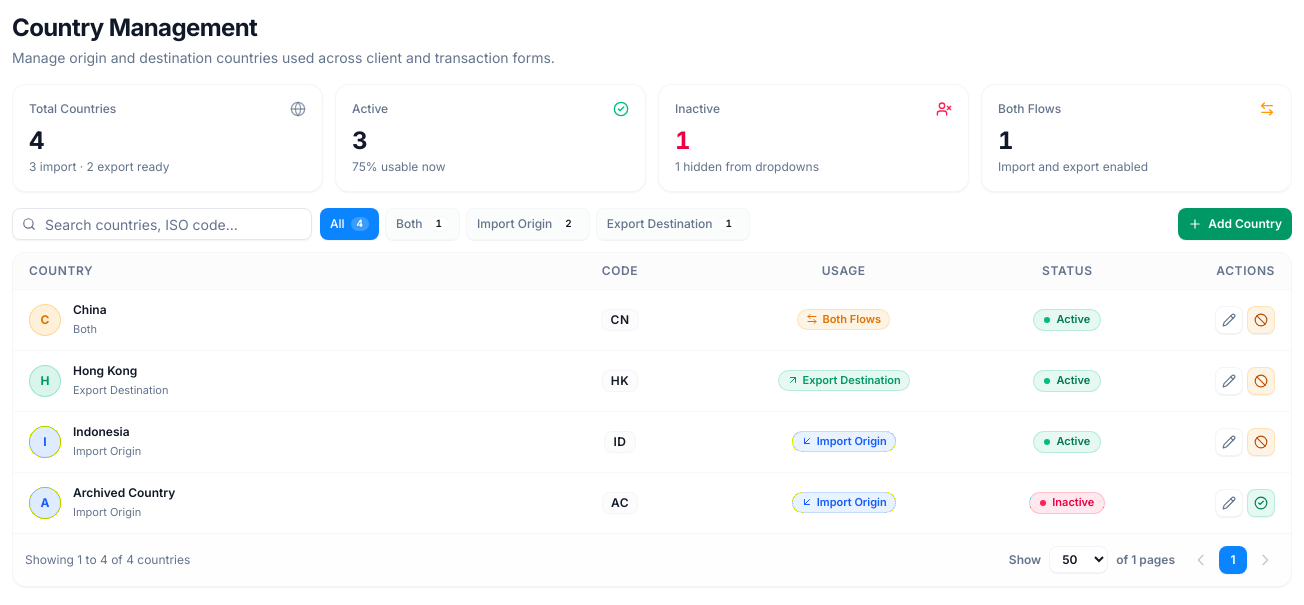
it: CountryManagement › filters countries by usage flow button
The width and height of the screenshot is (1304, 605).
Click the button "Export Destination 1". click: [673, 224]
box: 596,208 -> 750,240
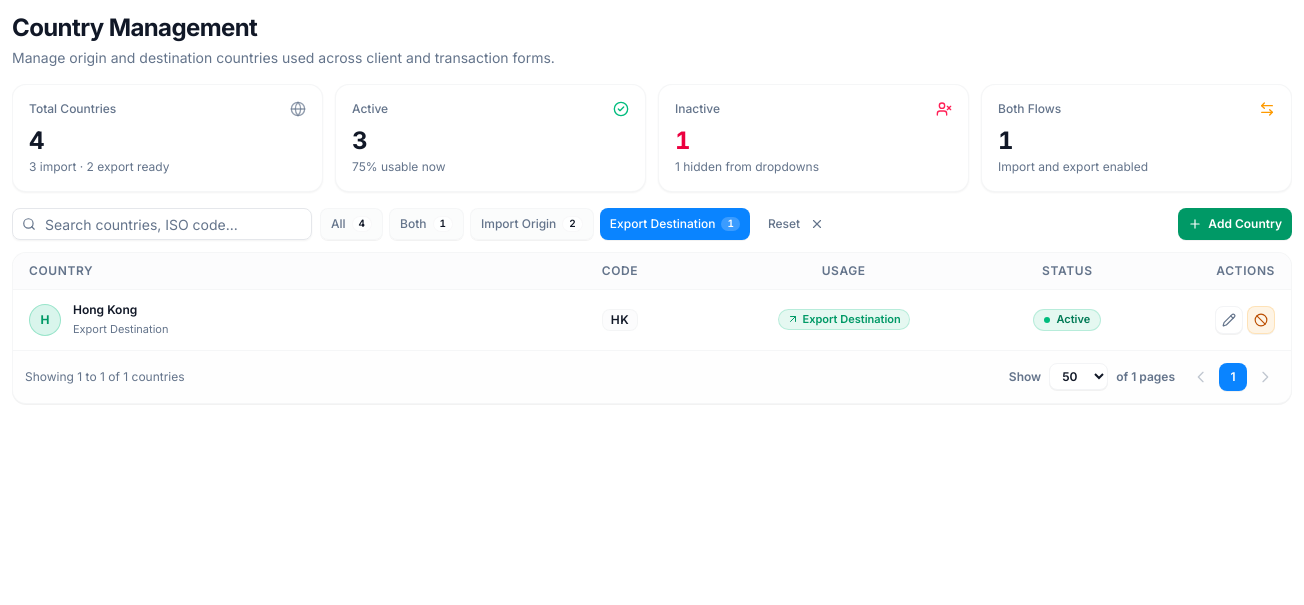
Check: the text "Hong Kong" is shown, box 73,302 -> 137,316
Check: the text "Indonesia" is gone
